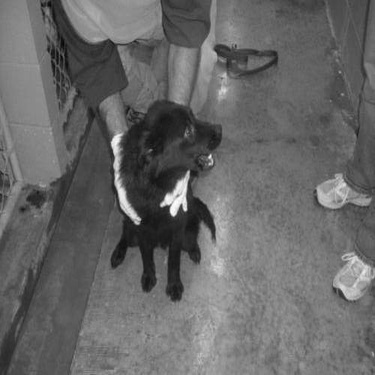dog: (101, 98, 228, 306)
